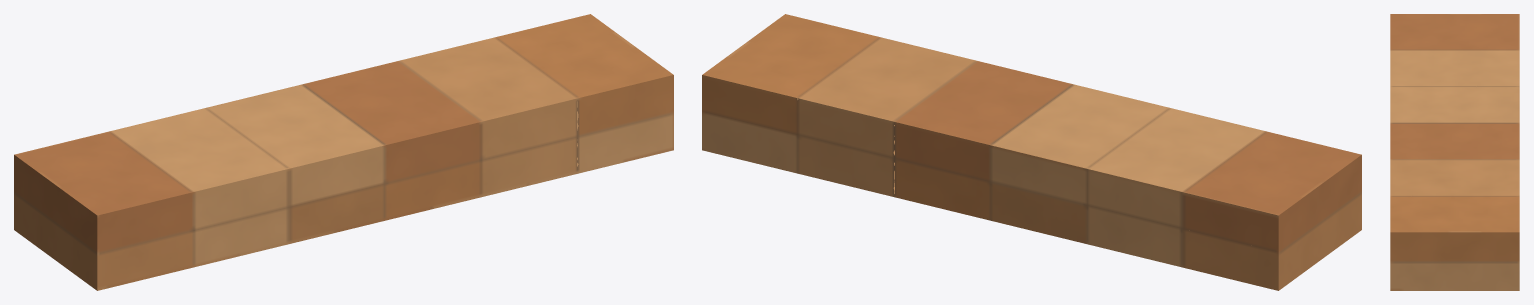
3 views of the same model, side by side, from view 1: azimuth 30°, elevation 25°; view 2: azimuth 150°, elevation 25°; view 3: azimuth 270°, elevation 25° (orthographic). The views are drawn at different scales.
Visible parts, largest first — view 1: ss06-sandstone-footing; view 2: ss06-sandstone-footing; view 3: ss06-sandstone-footing.
Boxes of the visible parts, box(x1,y1,x2,y2) form: ss06-sandstone-footing: box(14, 14, 673, 290); ss06-sandstone-footing: box(702, 14, 1361, 290); ss06-sandstone-footing: box(1390, 14, 1519, 290).
Size of the model in its own units: 400 by 50 by 100.
